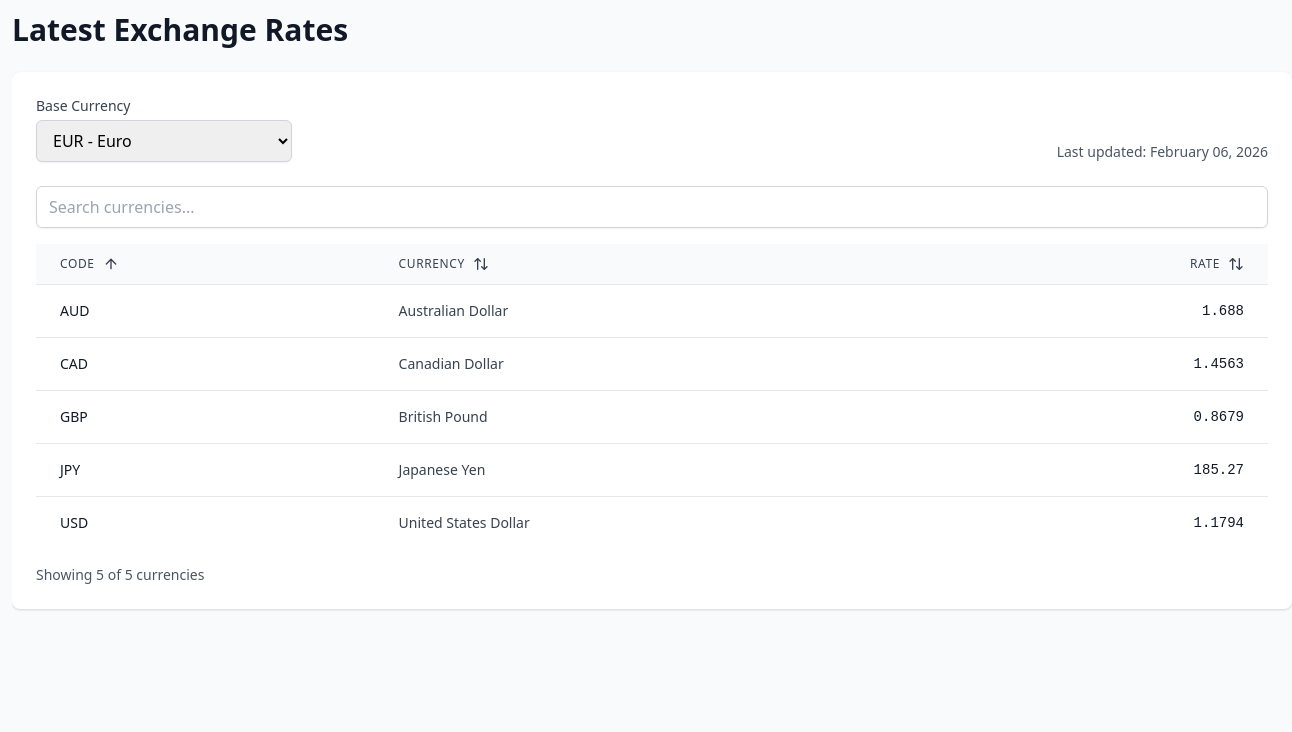
Test: LatestRatesPage › allows searching/filtering rates
The image size is (1292, 732).
Type "USD" into the field with placeholder "Search currencies...".
click(652, 207); type("USD")  # box [36,186,1268,228]
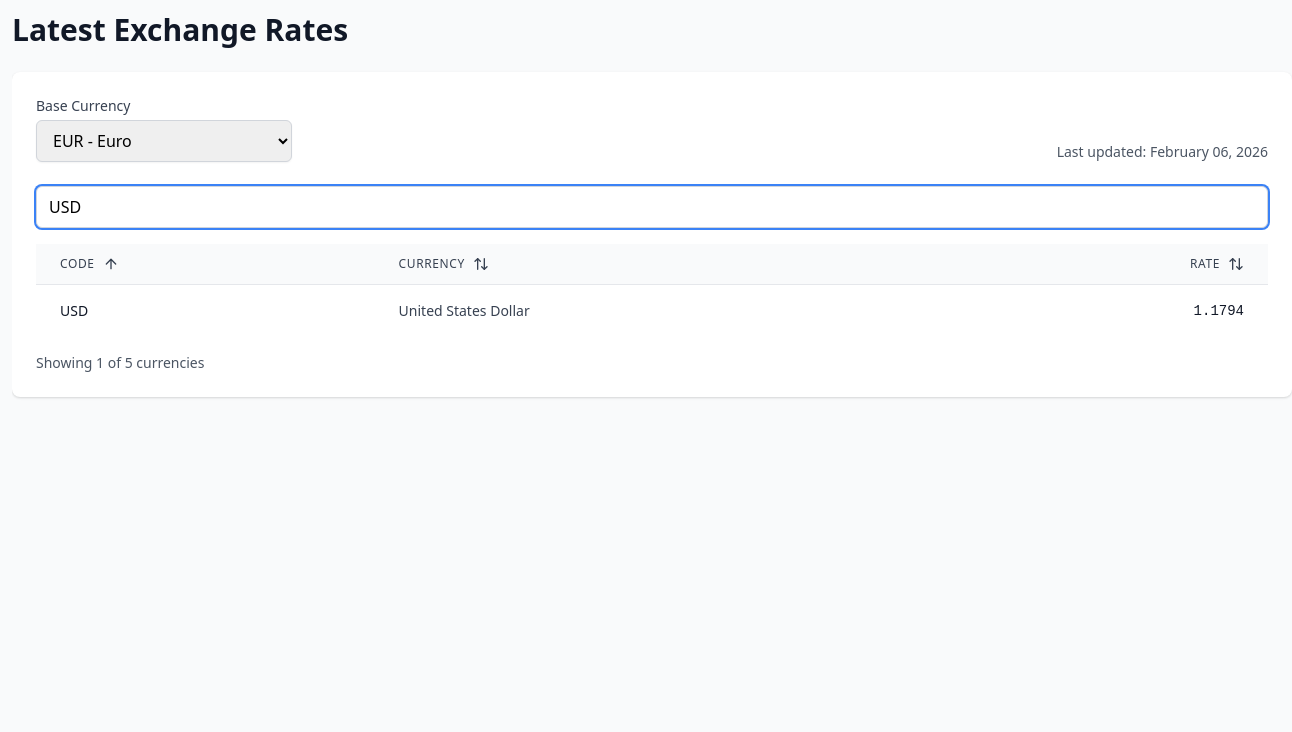
Expected: the text "USD" is shown, [36,284,375,337]
Now the text "JPY" is gone
